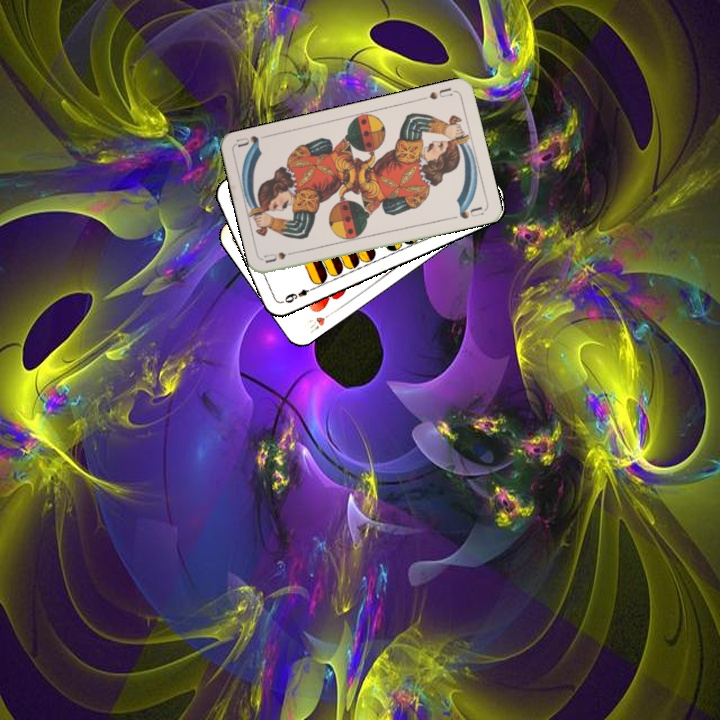E9: (280, 283, 318, 306)
H10: (301, 307, 337, 336)
SU: (261, 246, 302, 265), (425, 83, 455, 102)
